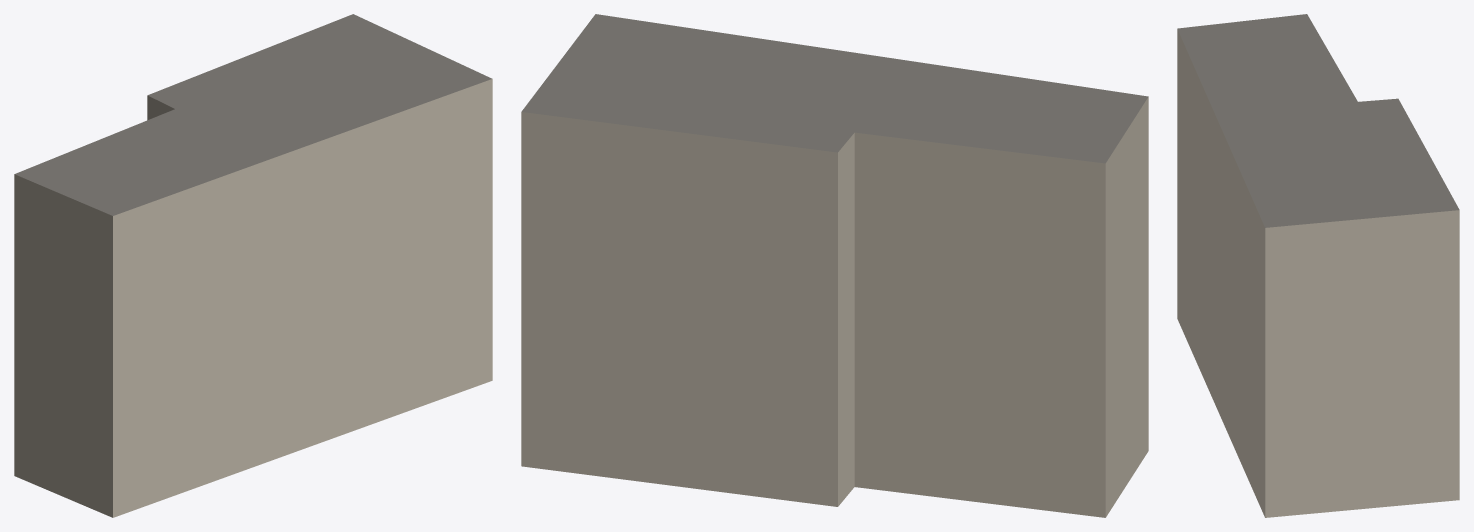
3 renders of one model, left to right at view 1: azimuth 30°, elevation 25°; view 2: azimuth 150°, elevation 25°; view 3: azimuth 270°, elevation 25°, orthographic. The views are drawn at different scales.
Visible parts, largest first — view 1: HP-w702173893; view 2: HP-w702173893; view 3: HP-w702173893.
Part boxes in pixels (x1,y1,x2,y2): HP-w702173893: (14, 14, 492, 517); HP-w702173893: (521, 14, 1148, 517); HP-w702173893: (1177, 14, 1459, 517).
Bounding box in the file's own units: 28.47 × 18 × 15.89.
